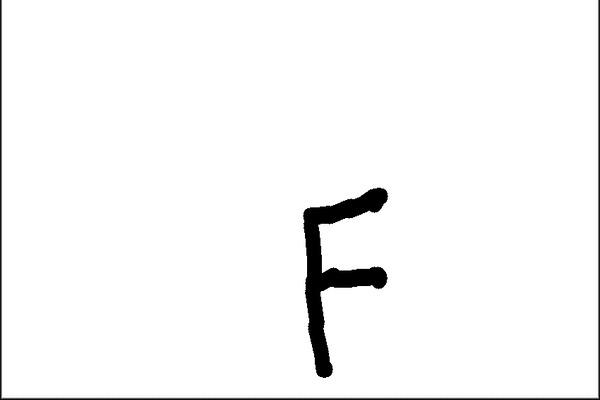F: (297, 184, 392, 380)
